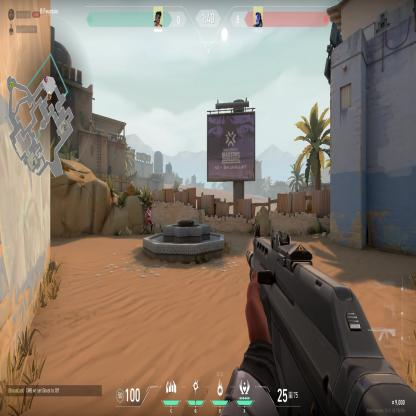enemy: (142, 206, 153, 236)
